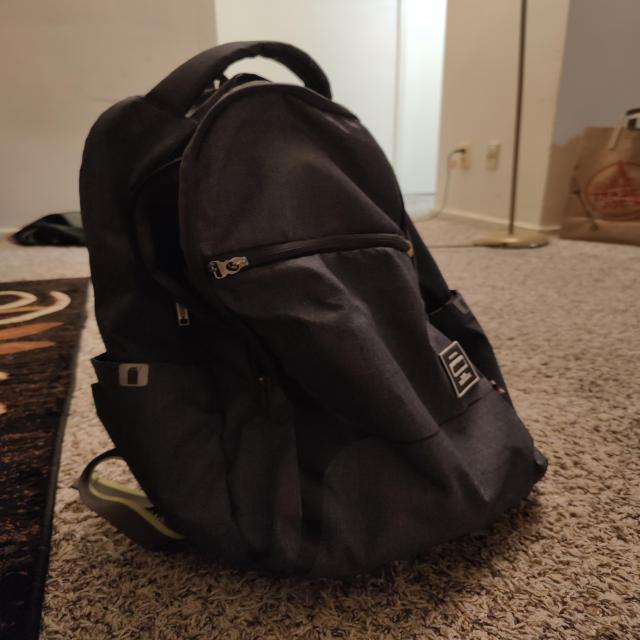bag: (113, 53, 523, 539)
